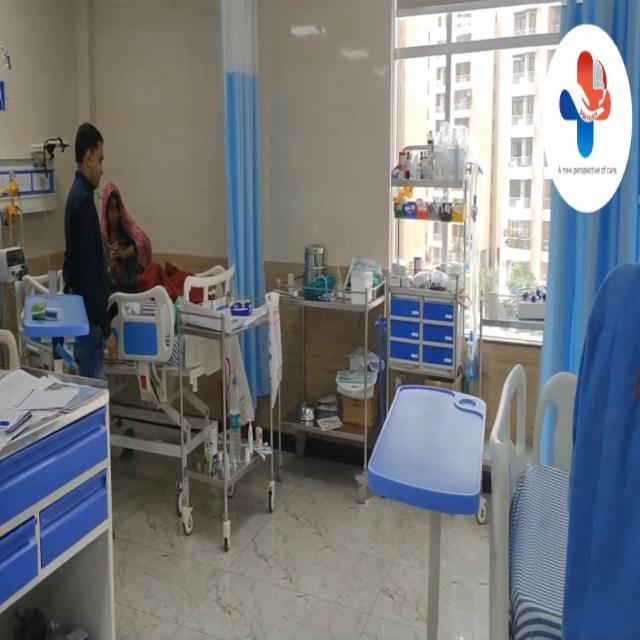Family-Member: (64, 109, 116, 382)
Patient: (101, 164, 215, 301)
